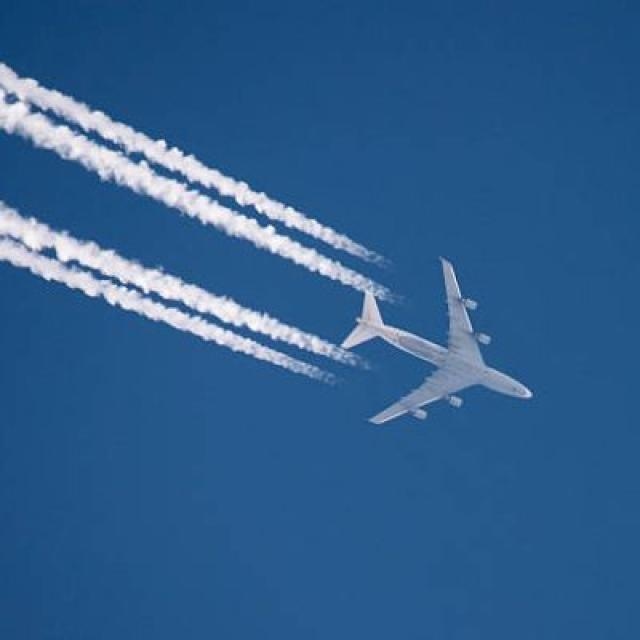Ct: (1, 46, 526, 465)
